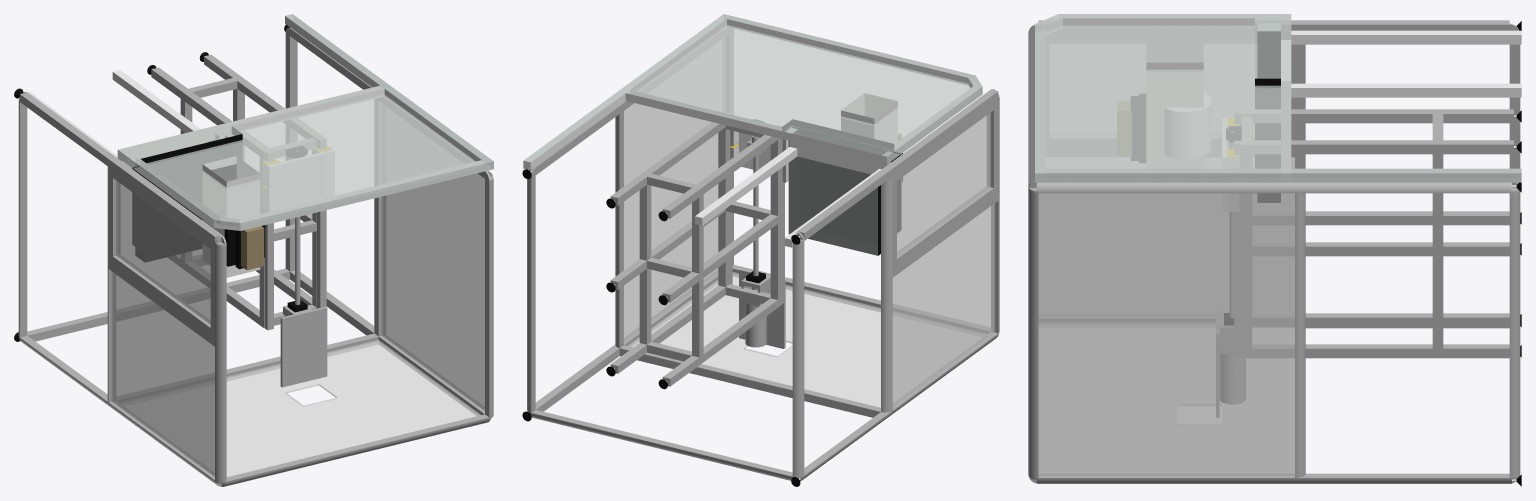
Rendered from FrameStruct.obj.
3 views of the same model, side by side, from view 1: azimuth 30°, elevation 25°; view 2: azimuth 150°, elevation 25°; view 3: azimuth 270°, elevation 25° (orthographic). The views are drawn at different scales.
Visible parts, largest first — view 1: 实体1:73, 实体1, 实体2, 实体1:72, 实体1:74, 实体1:75, 实体1:71, 实体1:64, 实体1:40, 实体1:49, 实体1:42, 实体1:46 (+23 smaller); view 2: 实体1, 实体2, 实体1:73, 实体1:74, 实体1:72, 实体1:75, 实体1:64, 实体1:50, 实体1:51, 实体1:70, 实体1:47, 实体1:42 (+29 smaller); view 3: 实体1:72, 实体1:73, 实体1, 实体2, 实体1:74, 实体1:41, 实体1:42, 实体1:64, 实体1:4, 实体1:8, 实体1:12, 实体1:6 (+19 smaller).
Boxes of the visible parts, bbox=[...] form: 实体1:73: bbox=[122, 340, 480, 476]; 实体1: bbox=[28, 14, 493, 277]; 实体2: bbox=[147, 94, 475, 219]; 实体1:72: bbox=[381, 173, 490, 410]; 实体1:74: bbox=[111, 272, 214, 476]; 实体1:75: bbox=[116, 180, 210, 324]; 实体1:71: bbox=[280, 306, 327, 387]; 实体1:64: bbox=[20, 92, 221, 244]; 实体1:40: bbox=[268, 150, 334, 211]; 实体1:49: bbox=[215, 245, 226, 481]; 实体1:42: bbox=[290, 270, 484, 415]; 实体1:46: bbox=[225, 414, 489, 486]; 实体1: bbox=[523, 14, 982, 255]; 实体2: bbox=[636, 25, 970, 149]; 实体1:73: bbox=[628, 272, 984, 407]; 实体1:74: bbox=[892, 203, 995, 407]; 实体1:72: bbox=[624, 103, 718, 341]; 实体1:75: bbox=[897, 112, 990, 255]; 实体1:64: bbox=[797, 89, 998, 240]; 实体1:50: bbox=[792, 241, 804, 477]; 实体1:51: bbox=[881, 177, 892, 412]; 实体1:70: bbox=[619, 345, 880, 417]; 实体1:47: bbox=[531, 410, 792, 480]; 实体1:42: bbox=[535, 269, 718, 411]; 实体1:72: bbox=[1036, 188, 1294, 476]; 实体1:73: bbox=[1039, 324, 1294, 472]; 实体1: bbox=[1035, 14, 1521, 202]; 实体2: bbox=[1045, 25, 1280, 176]; 实体1:74: bbox=[1039, 157, 1294, 315]; 实体1:41: bbox=[1038, 182, 1509, 193]; 实体1:42: bbox=[1038, 473, 1509, 483]; 实体1:64: bbox=[1038, 20, 1509, 33]; 实体1:4: bbox=[1253, 140, 1513, 154]; 实体1:8: bbox=[1252, 242, 1509, 256]; 实体1:12: bbox=[1252, 344, 1509, 358]; 实体1:6: bbox=[1253, 109, 1513, 123].
Bounding box in the file's own units: 1490 × 1330 × 1886.
Materials: 11 (1 with a texture image).
